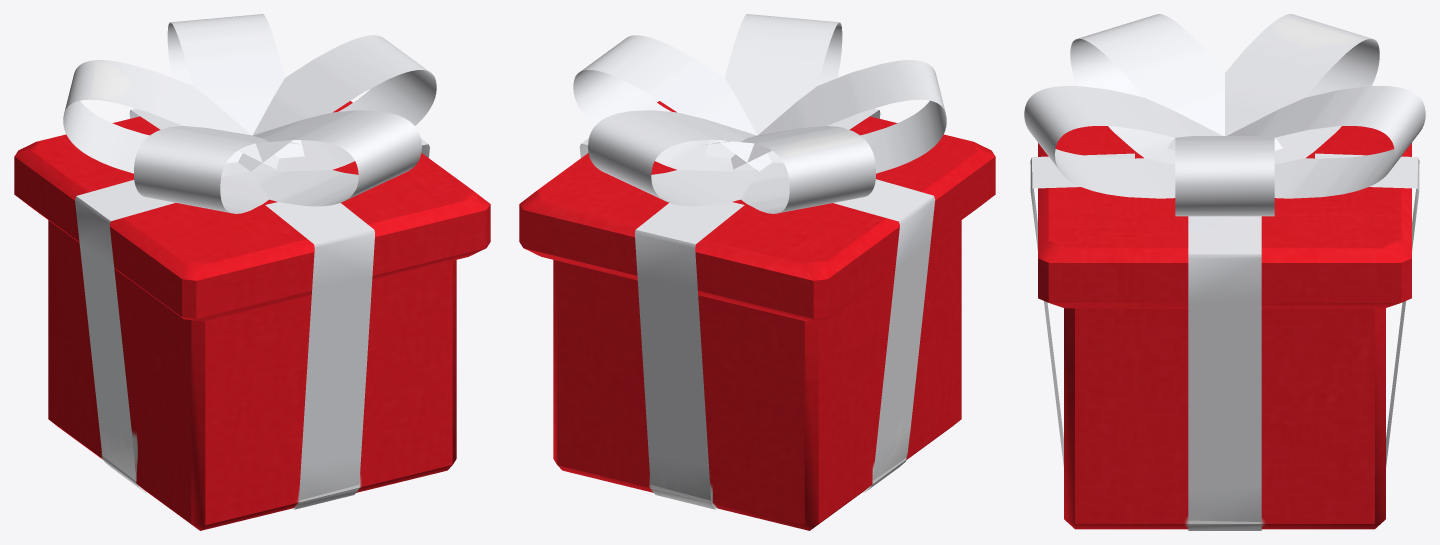
File: redPresent.gltf
The picture shows the model from 3 angles, left to right: view 1: azimuth 30°, elevation 25°; view 2: azimuth 150°, elevation 25°; view 3: azimuth 270°, elevation 25°; orthographic projection. The views are drawn at different scales.
Parts seen in each view (by area): view 1: Polygon_Reduction; view 2: Polygon_Reduction; view 3: Polygon_Reduction.
Part boxes in pixels (x1,y1,x2,y2): Polygon_Reduction: (14,14,490,530); Polygon_Reduction: (519,14,995,530); Polygon_Reduction: (1024,14,1425,530).
Bounding box in the file's own units: 1.31 × 1.42 × 1.35.
1 material, 1 textured.
